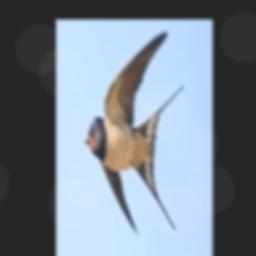Swallow: (85, 30, 183, 235)
